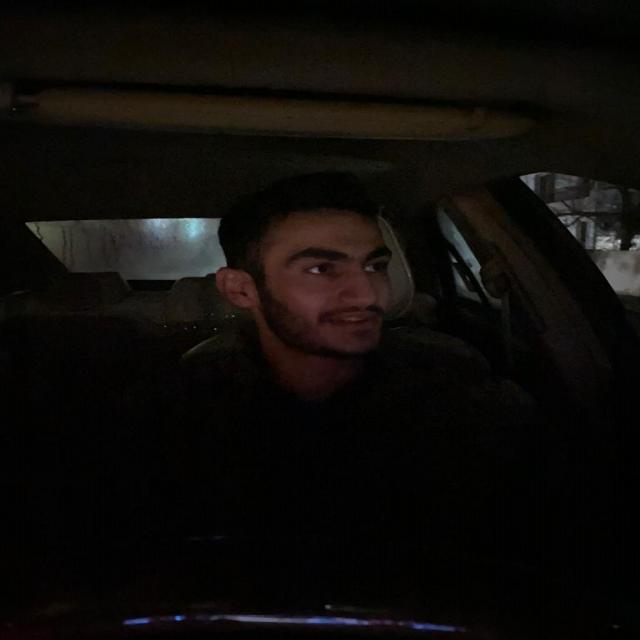person: (219, 169, 419, 370)
